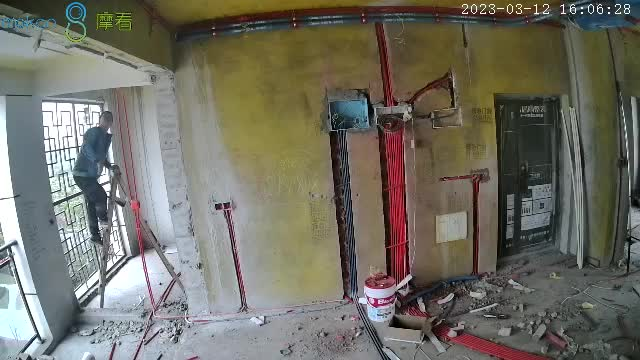people: (70, 111, 120, 246)
window: (39, 98, 130, 303)
